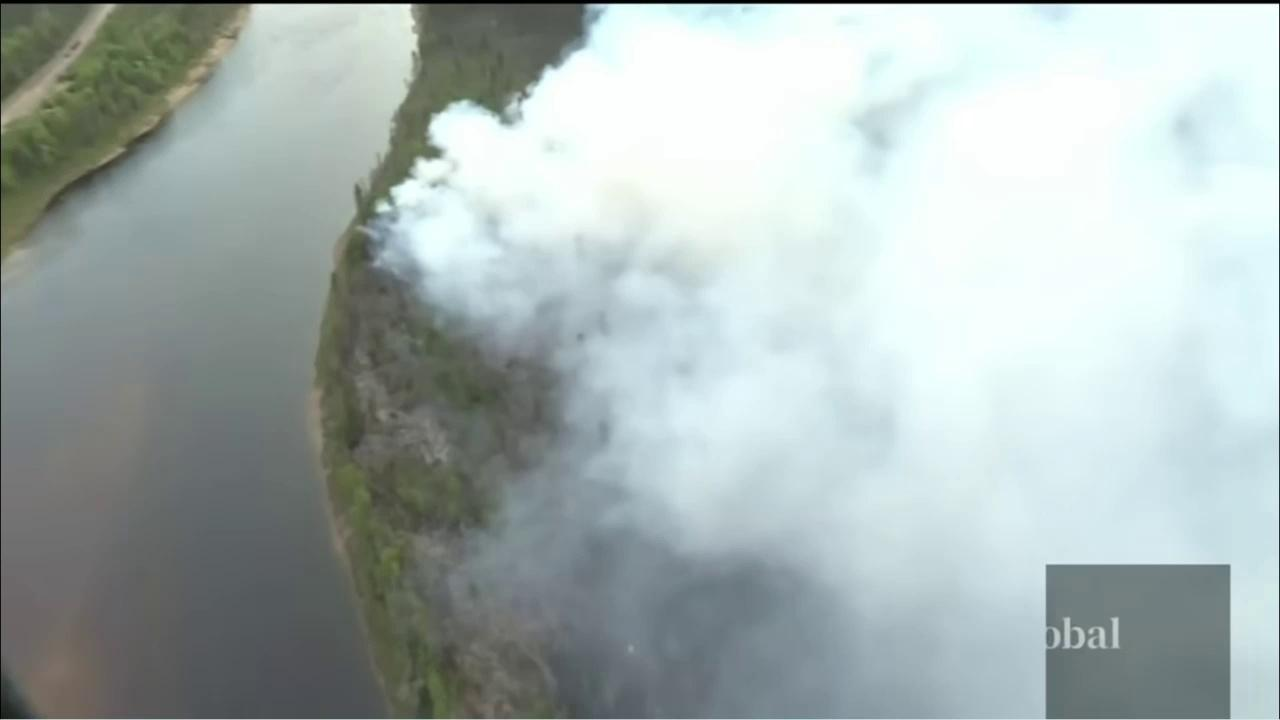smoke: (349, 4, 1280, 720)
